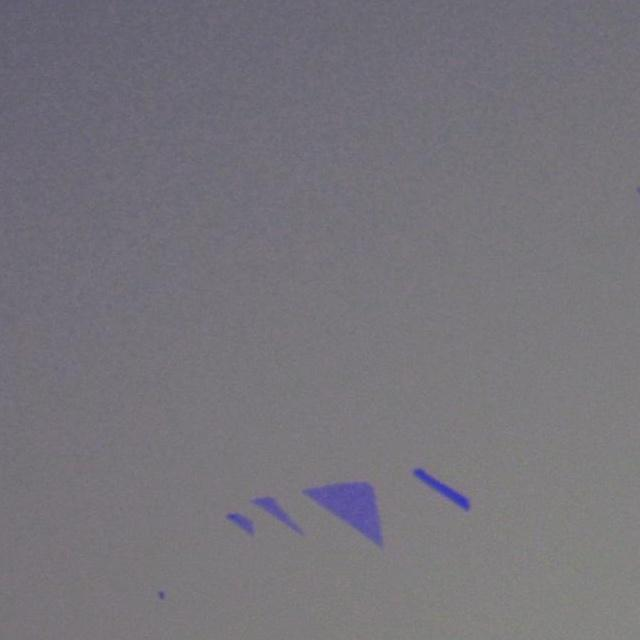monolayer-eWW4: (299, 481, 387, 548), (252, 494, 302, 534), (233, 510, 254, 536)
